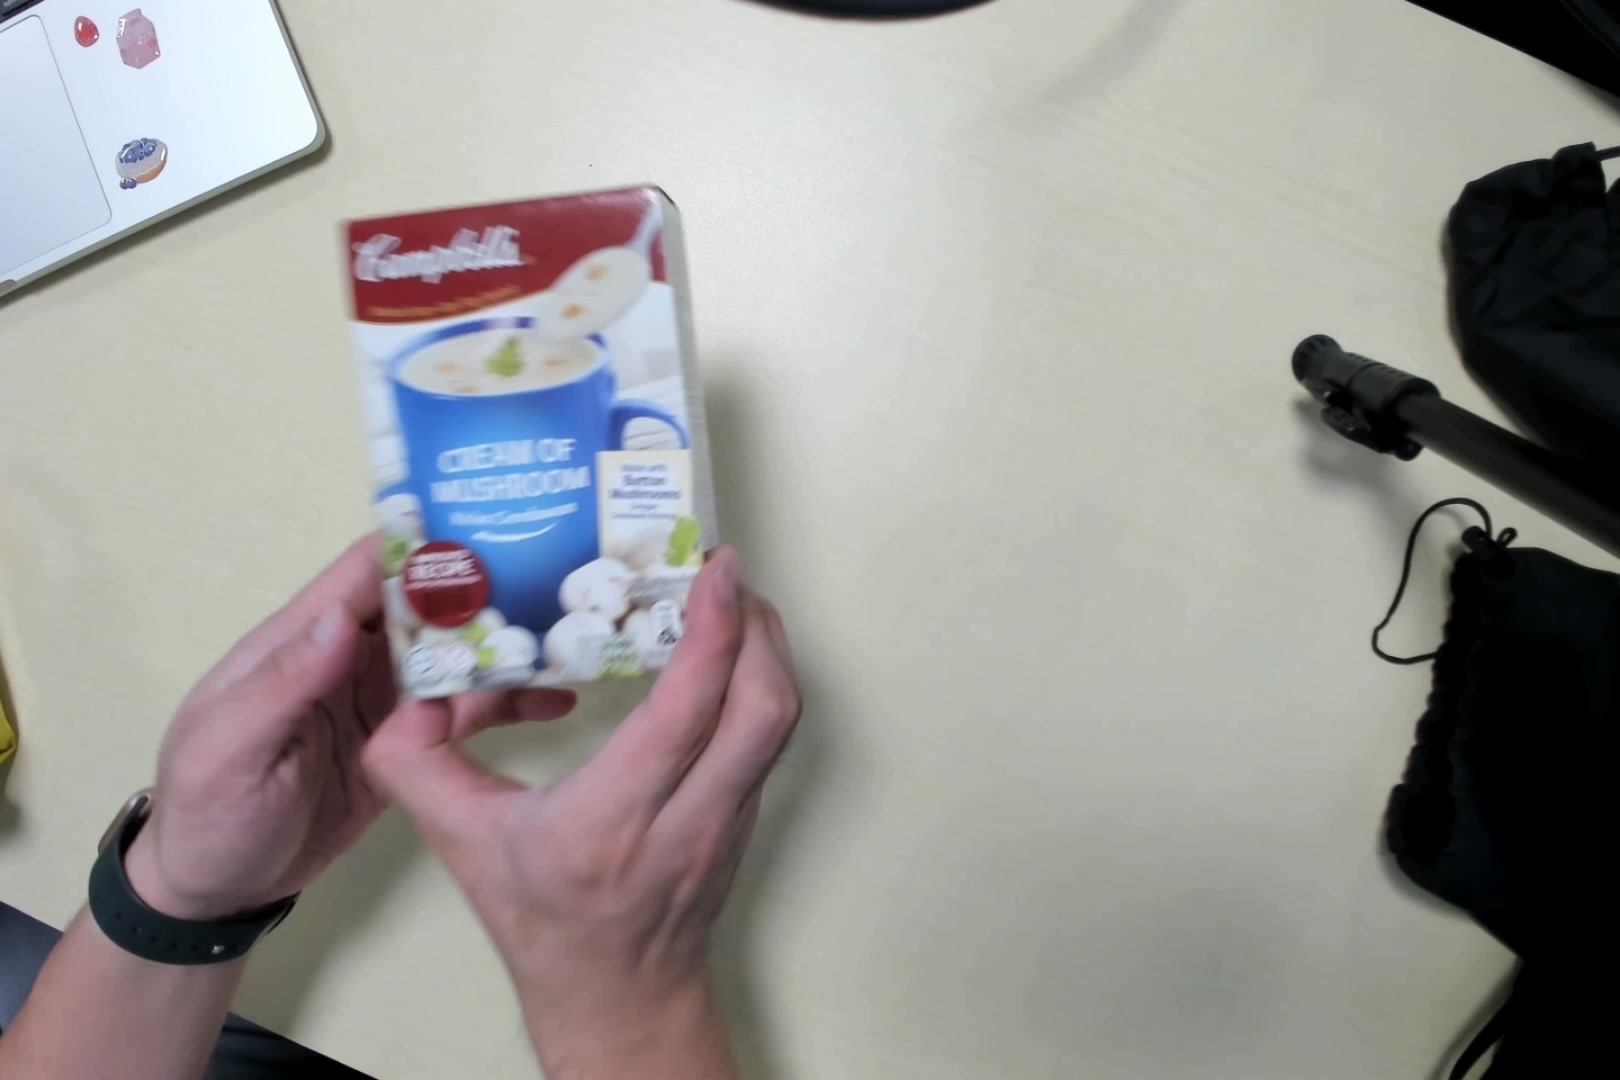InstantMeals_0-99g_Halal_NonHealthy: (344, 183, 714, 693)
